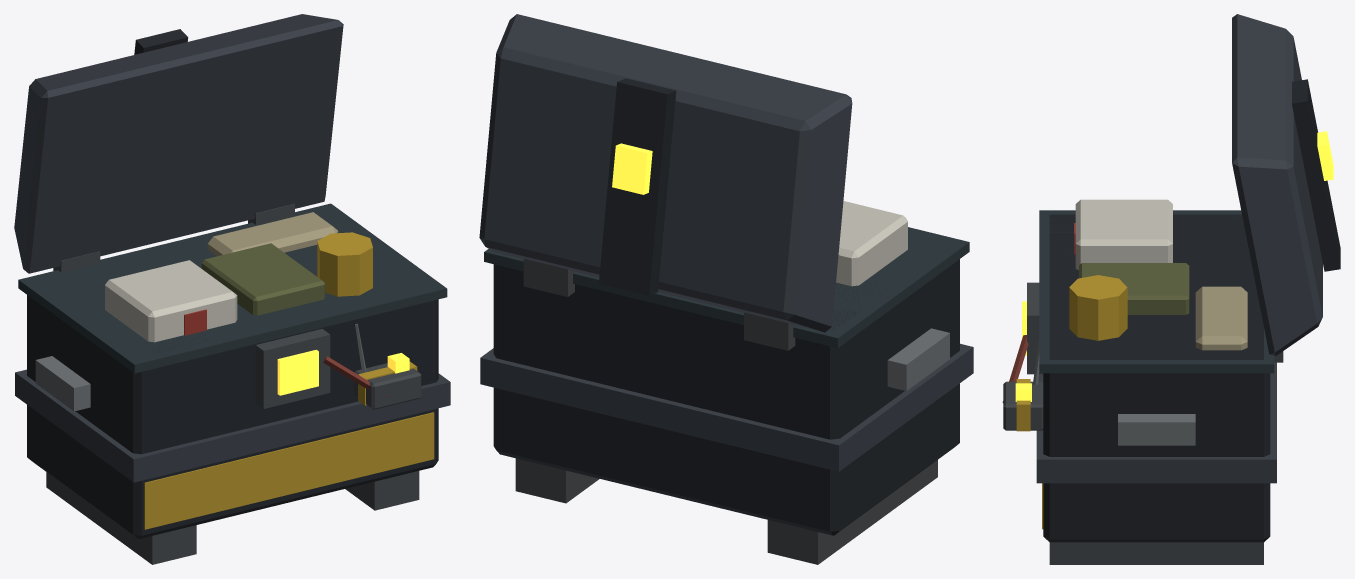
The model's file is device_locker_hacked.glb.
3 renders of one model, left to right at view 1: azimuth 30°, elevation 25°; view 2: azimuth 150°, elevation 25°; view 3: azimuth 270°, elevation 25°, orthographic. The views are drawn at different scales.
Parts seen in each view (by area): view 1: device_locker_mesh; view 2: device_locker_mesh; view 3: device_locker_mesh.
Boxes of the visible parts, <box> form: device_locker_mesh: <box>14,14,450,564</box>; device_locker_mesh: <box>479,14,973,564</box>; device_locker_mesh: <box>1002,14,1340,564</box>.
Bounding box in the file's own units: 1.28 × 1.41 × 1.04.
